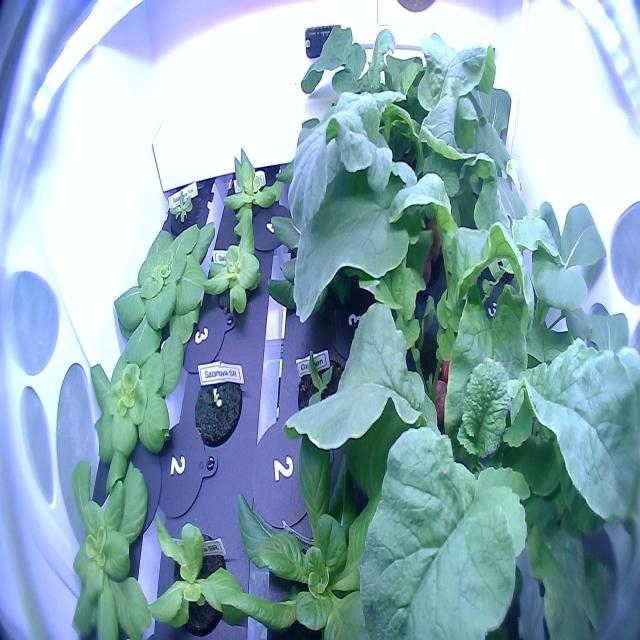germination: (189, 349, 245, 453)
young: (217, 393, 424, 640), (82, 319, 189, 493), (62, 449, 155, 639), (108, 218, 220, 374), (142, 493, 249, 636), (288, 338, 362, 449), (200, 207, 265, 329), (217, 136, 284, 243), (164, 182, 204, 242)
